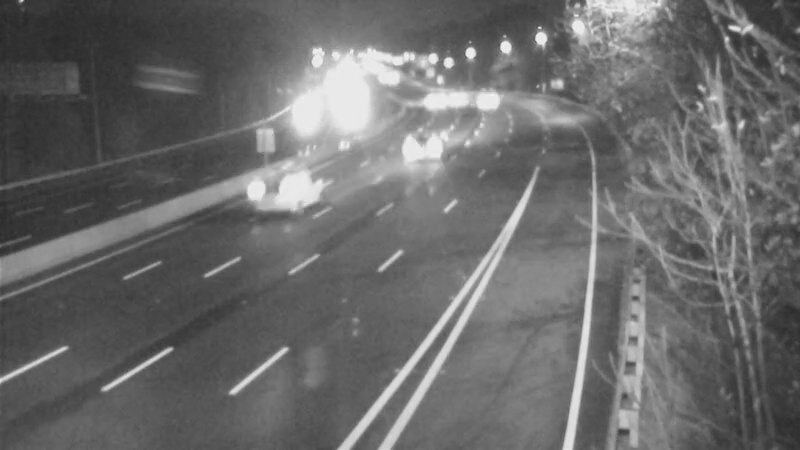vehicle: (252, 152, 332, 232), (460, 70, 510, 120), (433, 69, 483, 119), (404, 77, 454, 127), (394, 125, 444, 175), (279, 89, 329, 139)
